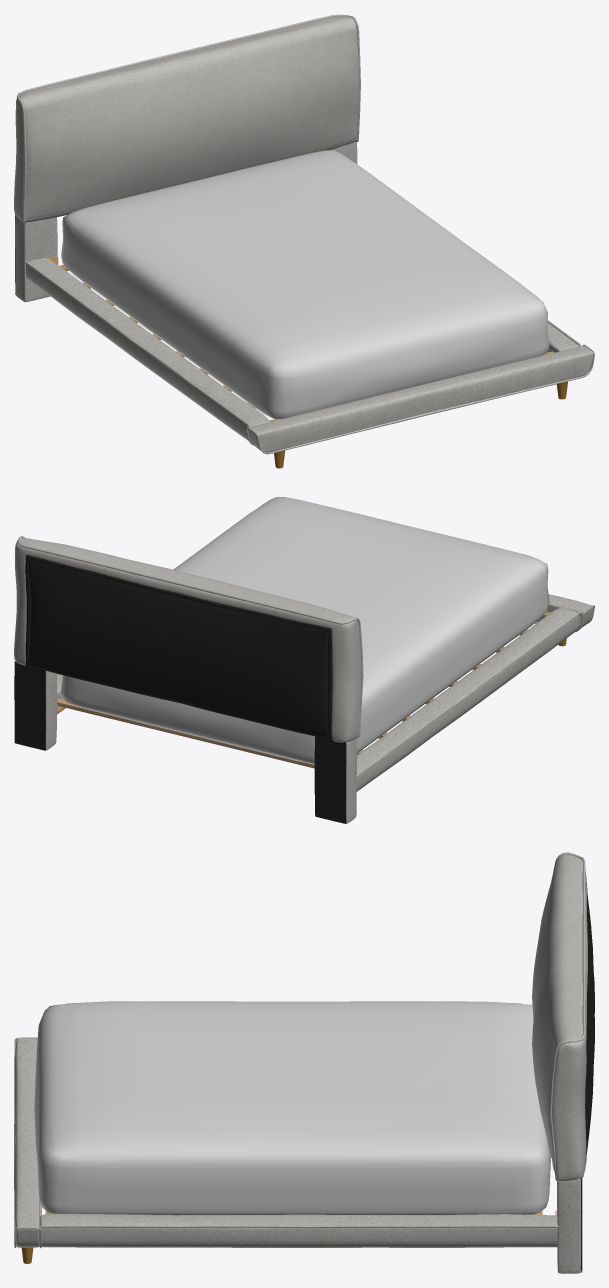
Rendered from B075QFCHM9.glb.
3 renders of one model, top to bottom at view 1: azimuth 30°, elevation 25°; view 2: azimuth 150°, elevation 25°; view 3: azimuth 270°, elevation 25°, orthographic. The views are drawn at different scales.
Parts seen in each view (by area): view 1: RootNode; view 2: RootNode; view 3: RootNode.
Boxes of the visible parts, x1=… form: RootNode: x1=14, y1=14, x2=594, y2=468; RootNode: x1=14, y1=497, x2=594, y2=823; RootNode: x1=14, y1=852, x2=594, y2=1273.
Bounding box in the file's own units: 1.84 × 1.07 × 2.37.
Materials: 1 (1 with a texture image).
